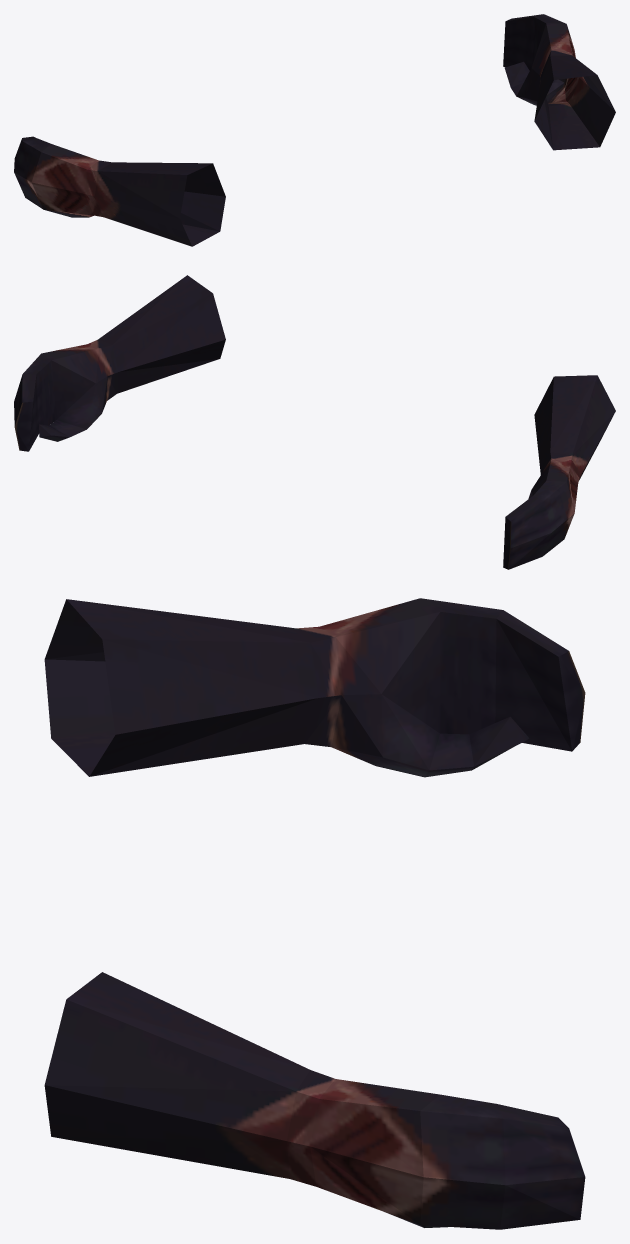
The model's file is summoner_glove_male_92670.obj.
The picture shows the model from 3 angles, top to bottom: view 1: azimuth 30°, elevation 25°; view 2: azimuth 150°, elevation 25°; view 3: azimuth 270°, elevation 25°; orthographic projection. The views are drawn at different scales.
Parts seen in each view (by area): view 1: summoner_glove_male_92670; view 2: summoner_glove_male_92670; view 3: summoner_glove_male_92670.
Part boxes in pixels (<box>): summoner_glove_male_92670: <box>14,14,615,246</box>; summoner_glove_male_92670: <box>14,275,615,569</box>; summoner_glove_male_92670: <box>44,598,585,1229</box>.
Bounding box in the file's own units: 44.35 × 7.94 × 19.12.
1 material, 1 textured.
